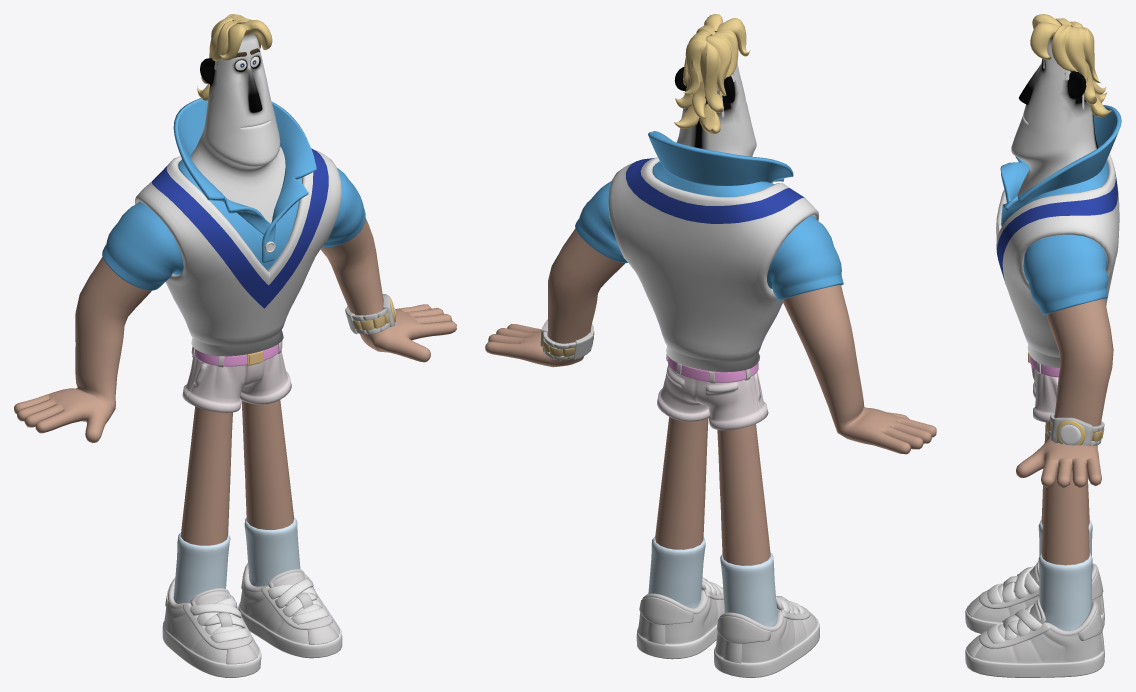
File: T04-Rex-BlenderStudio-R85-Acting.glb
3 views of the same model, side by side, from view 1: azimuth 30°, elevation 25°; view 2: azimuth 150°, elevation 25°; view 3: azimuth 270°, elevation 25° (orthographic).
Parts seen in each view (by area): view 1: R85_SKINNED_SOURCE_MORPH_GEO-rex_body, R85_SKINNED_SOURCE_MORPH_GEO-rex_sweater_vest, R85_SKINNED_SOURCE_MORPH_GEO-rex_head, R85_SKINNED_SOURCE_MORPH_GEO-rex_shoes, R85_SKINNED_SOURCE_MORPH_GEO-rex_polo_shirt, R85_SKINNED_SOURCE_MORPH_GEO-rex_polo_shirt_collar, R85_SKINNED_SOURCE_MORPH_GEO-rex_socks, R85_SKINNED_SOURCE_MORPH_GEO-rex_shorts, R85_SKINNED_SOURCE_MORPH_GEO-rex_shoes_laces, R85_SKINNED_SOURCE_MORPH_GEO-rex_hair.groom_base, R85_SKINNED_SOURCE_MORPH_GEO-rex_rolex_watch, R85_SKINNED_SOURCE_MORPH_GEO-rex_belt; view 2: R85_SKINNED_SOURCE_MORPH_GEO-rex_body, R85_SKINNED_SOURCE_MORPH_GEO-rex_sweater_vest, R85_SKINNED_SOURCE_MORPH_GEO-rex_shoes, R85_SKINNED_SOURCE_MORPH_GEO-rex_polo_shirt, R85_SKINNED_SOURCE_MORPH_GEO-rex_socks, R85_SKINNED_SOURCE_MORPH_GEO-rex_hair.groom_base, R85_SKINNED_SOURCE_MORPH_GEO-rex_shorts, R85_SKINNED_SOURCE_MORPH_GEO-rex_polo_shirt_collar, R85_SKINNED_SOURCE_MORPH_GEO-rex_head, R85_SKINNED_SOURCE_MORPH_GEO-rex_rolex_watch, R85_SKINNED_SOURCE_MORPH_GEO-rex_belt; view 3: R85_SKINNED_SOURCE_MORPH_GEO-rex_body, R85_SKINNED_SOURCE_MORPH_GEO-rex_sweater_vest, R85_SKINNED_SOURCE_MORPH_GEO-rex_shoes, R85_SKINNED_SOURCE_MORPH_GEO-rex_head, R85_SKINNED_SOURCE_MORPH_GEO-rex_polo_shirt, R85_SKINNED_SOURCE_MORPH_GEO-rex_polo_shirt_collar, R85_SKINNED_SOURCE_MORPH_GEO-rex_hair.groom_base, R85_SKINNED_SOURCE_MORPH_GEO-rex_socks, R85_SKINNED_SOURCE_MORPH_GEO-rex_shoes_laces, R85_SKINNED_SOURCE_MORPH_GEO-rex_shorts, R85_SKINNED_SOURCE_MORPH_GEO-rex_rolex_watch, R85_SKINNED_SOURCE_MORPH_GEO-rex_rolex_watch_glass (+1 smaller).
Part boxes in pixels (box(x1,y1,x2,y2)): R85_SKINNED_SOURCE_MORPH_GEO-rex_body: box(14, 218, 456, 545); R85_SKINNED_SOURCE_MORPH_GEO-rex_sweater_vest: box(135, 148, 341, 356); R85_SKINNED_SOURCE_MORPH_GEO-rex_head: box(191, 20, 285, 223); R85_SKINNED_SOURCE_MORPH_GEO-rex_shoes: box(162, 563, 342, 677); R85_SKINNED_SOURCE_MORPH_GEO-rex_polo_shirt: box(102, 159, 365, 290); R85_SKINNED_SOURCE_MORPH_GEO-rex_polo_shirt_collar: box(173, 98, 316, 262); R85_SKINNED_SOURCE_MORPH_GEO-rex_socks: box(173, 517, 300, 603); R85_SKINNED_SOURCE_MORPH_GEO-rex_shorts: box(182, 342, 291, 412); R85_SKINNED_SOURCE_MORPH_GEO-rex_shoes_laces: box(190, 578, 328, 642); R85_SKINNED_SOURCE_MORPH_GEO-rex_hair.groom_base: box(197, 14, 272, 100); R85_SKINNED_SOURCE_MORPH_GEO-rex_rolex_watch: box(345, 294, 395, 334); R85_SKINNED_SOURCE_MORPH_GEO-rex_belt: box(194, 341, 282, 366); R85_SKINNED_SOURCE_MORPH_GEO-rex_body: box(485, 229, 936, 565); R85_SKINNED_SOURCE_MORPH_GEO-rex_sweater_vest: box(608, 157, 819, 372); R85_SKINNED_SOURCE_MORPH_GEO-rex_shoes: box(636, 581, 819, 677); R85_SKINNED_SOURCE_MORPH_GEO-rex_polo_shirt: box(575, 161, 843, 300); R85_SKINNED_SOURCE_MORPH_GEO-rex_socks: box(648, 536, 777, 626); R85_SKINNED_SOURCE_MORPH_GEO-rex_hair.groom_base: box(674, 14, 750, 134); R85_SKINNED_SOURCE_MORPH_GEO-rex_shorts: box(657, 354, 768, 430); R85_SKINNED_SOURCE_MORPH_GEO-rex_polo_shirt_collar: box(648, 131, 793, 186); R85_SKINNED_SOURCE_MORPH_GEO-rex_head: box(674, 31, 756, 156); R85_SKINNED_SOURCE_MORPH_GEO-rex_rolex_watch: box(540, 319, 594, 360); R85_SKINNED_SOURCE_MORPH_GEO-rex_belt: box(667, 356, 758, 382); R85_SKINNED_SOURCE_MORPH_GEO-rex_body: box(1016, 298, 1113, 565); R85_SKINNED_SOURCE_MORPH_GEO-rex_sweater_vest: box(996, 153, 1119, 367); R85_SKINNED_SOURCE_MORPH_GEO-rex_shoes: box(965, 561, 1104, 677); R85_SKINNED_SOURCE_MORPH_GEO-rex_head: box(1011, 25, 1098, 195); R85_SKINNED_SOURCE_MORPH_GEO-rex_polo_shirt: box(1011, 161, 1108, 315); R85_SKINNED_SOURCE_MORPH_GEO-rex_polo_shirt_collar: box(1000, 105, 1121, 226); R85_SKINNED_SOURCE_MORPH_GEO-rex_hair.groom_base: box(1030, 14, 1111, 117); R85_SKINNED_SOURCE_MORPH_GEO-rex_socks: box(1038, 520, 1092, 630); R85_SKINNED_SOURCE_MORPH_GEO-rex_shoes_laces: box(987, 566, 1041, 643); R85_SKINNED_SOURCE_MORPH_GEO-rex_shorts: box(1031, 362, 1058, 422); R85_SKINNED_SOURCE_MORPH_GEO-rex_rolex_watch: box(1047, 412, 1104, 445); R85_SKINNED_SOURCE_MORPH_GEO-rex_rolex_watch_glass: box(1059, 424, 1080, 445).
Size of the model in its own units: 1.24 by 1.71 by 0.3882.
